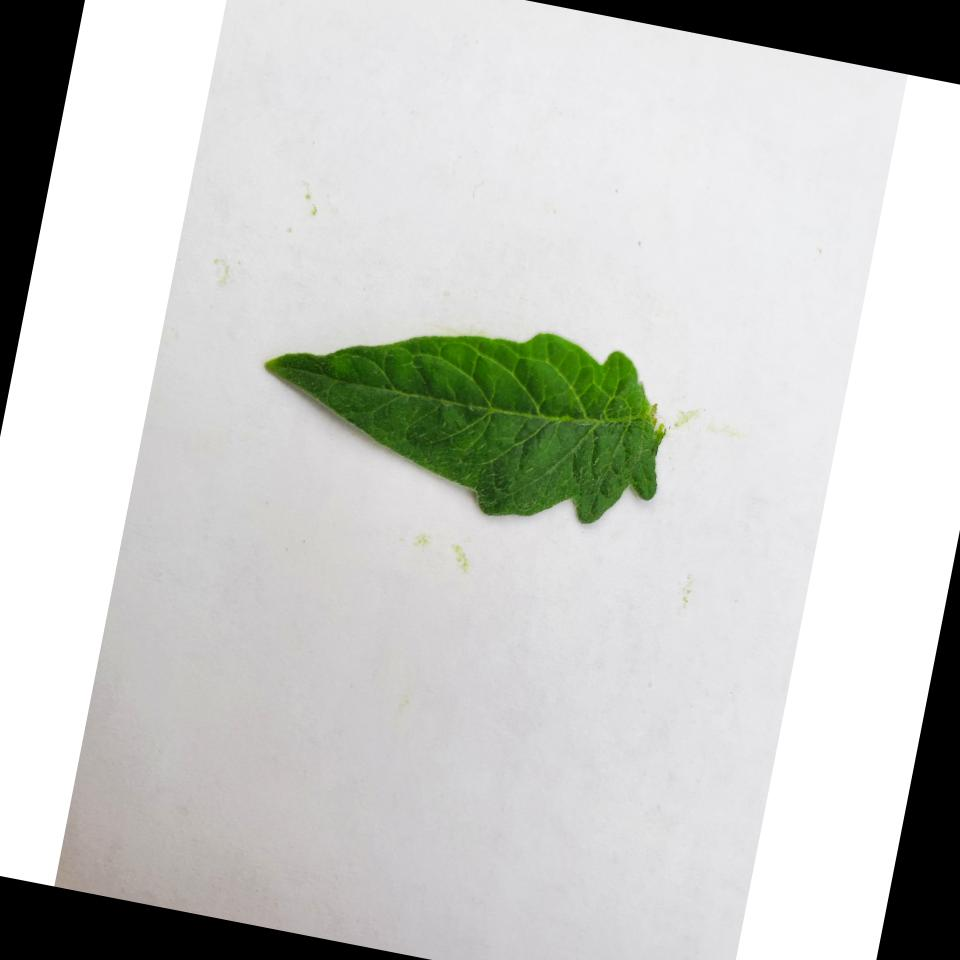tomato_leaves: (250, 282, 696, 553)
